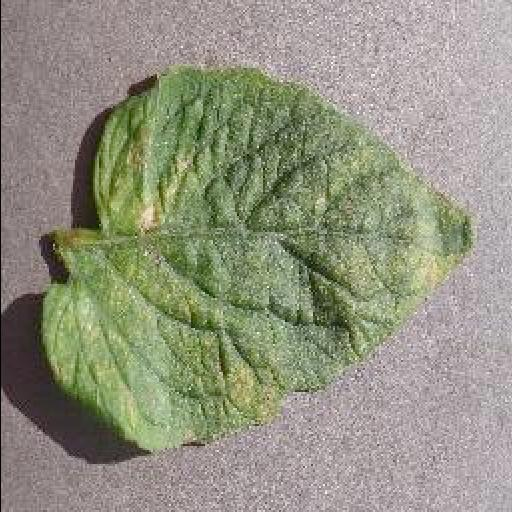disease_tomato: (41, 67, 475, 453)
